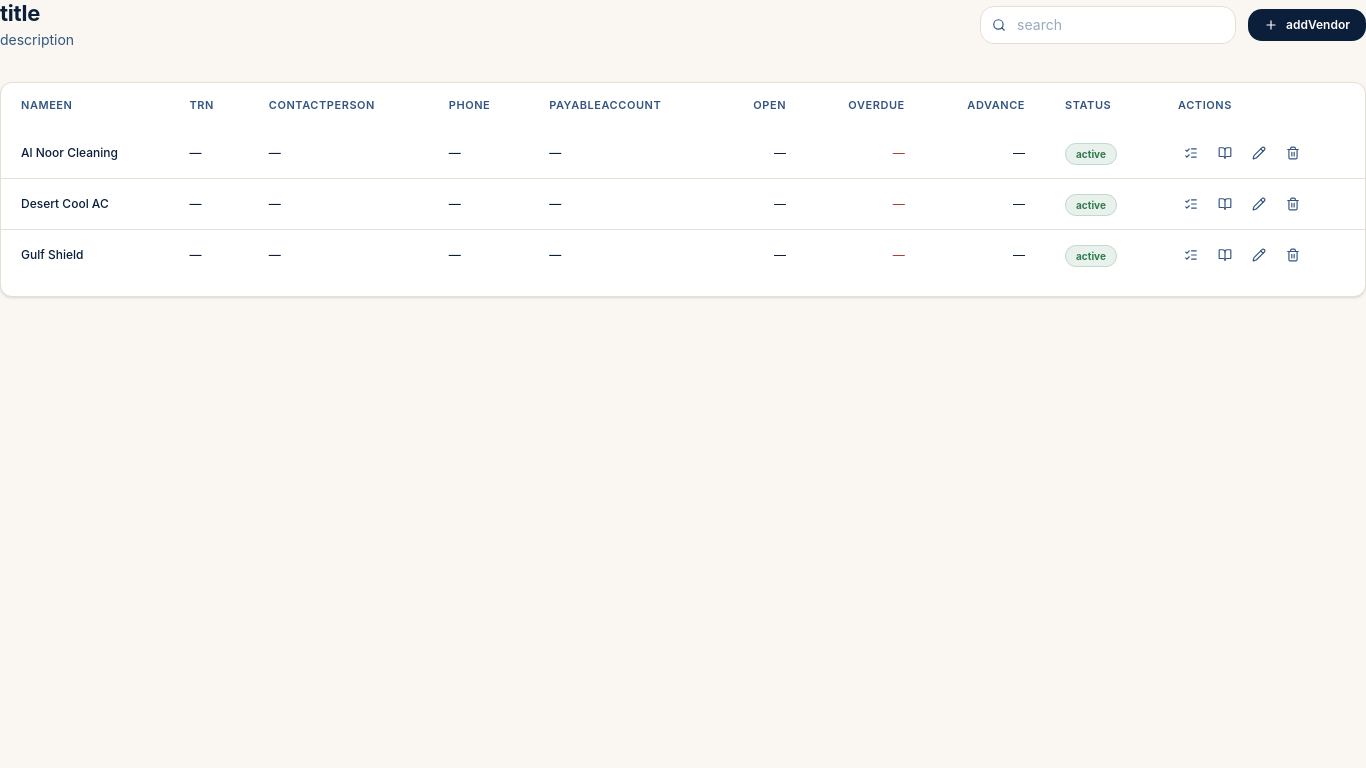
Test case: VendorsPage › ties every form label to its field
The width and height of the screenshot is (1366, 768).
Check: the text "Gulf Shield" is shown, box [1,229,170,280]
Click the button "addVendor" at (1307, 25), box [1248,9,1365,41]
(page scrolled)
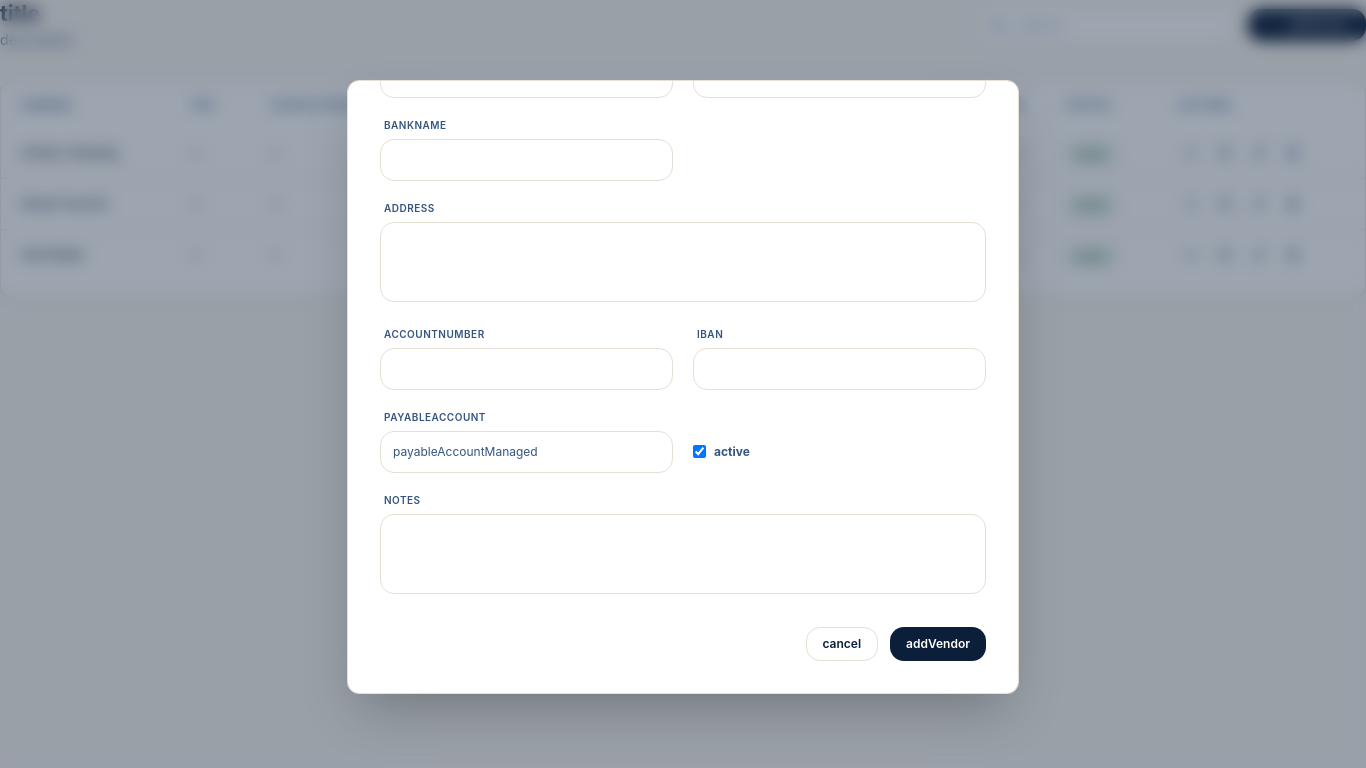
Check: the field labelled "bankName" is shown, box [380,139,673,181]
Check: the text box labelled "address" is shown, box [380,222,986,302]
Check: the field labelled "accountNumber" is shown, box [380,348,673,390]
